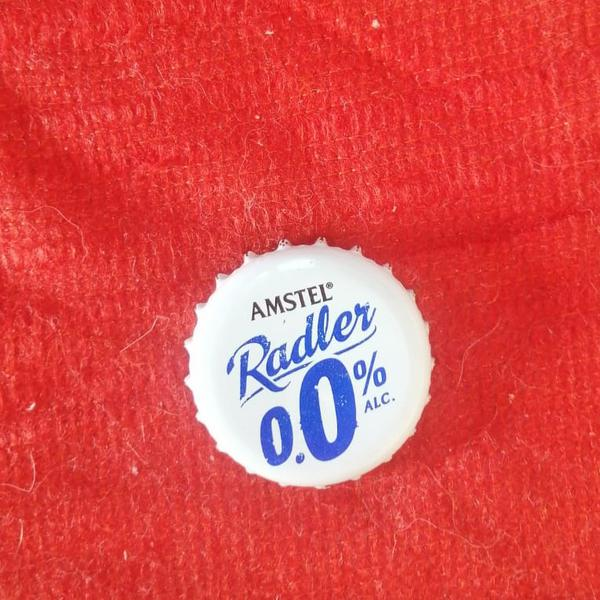amstelradler0.0: (174, 232, 441, 494)
